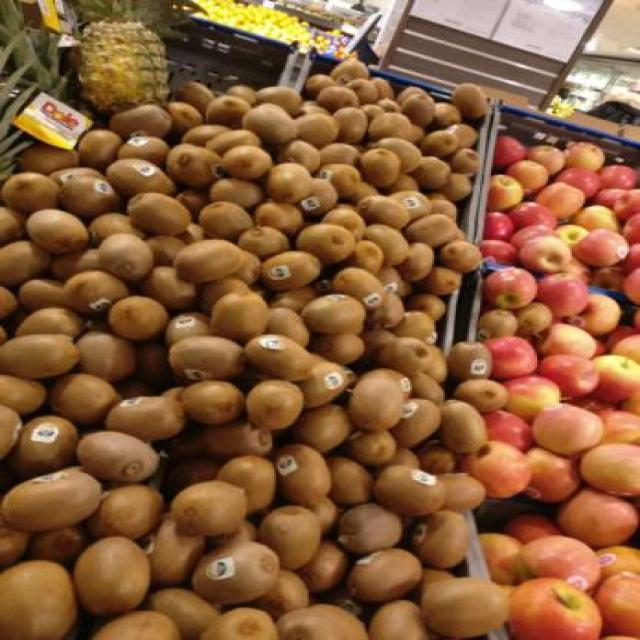kiwi: (2, 468, 102, 531), (73, 536, 150, 616), (0, 562, 77, 639), (192, 538, 280, 605), (422, 578, 510, 637), (8, 415, 78, 478), (170, 480, 248, 536), (77, 431, 158, 484), (87, 485, 163, 540), (258, 505, 322, 570), (348, 369, 412, 431), (348, 549, 422, 602), (150, 516, 205, 586), (148, 588, 220, 640), (105, 396, 187, 441), (373, 465, 445, 516), (0, 334, 80, 379), (50, 374, 120, 425), (168, 335, 245, 381), (217, 455, 277, 513), (338, 502, 403, 555), (412, 510, 470, 569), (275, 444, 332, 504), (277, 604, 368, 640), (245, 334, 313, 381), (75, 331, 137, 382), (173, 239, 243, 284), (245, 379, 303, 431), (210, 291, 268, 342), (292, 404, 353, 452), (180, 380, 245, 425), (63, 270, 128, 314), (127, 192, 192, 236), (27, 209, 90, 254), (203, 420, 273, 460), (253, 570, 310, 619), (298, 540, 348, 594), (108, 296, 168, 341), (98, 232, 153, 281), (300, 294, 367, 334), (90, 610, 182, 639), (58, 176, 120, 219), (105, 159, 177, 196), (440, 400, 488, 454), (2, 171, 60, 215), (200, 608, 278, 640), (142, 266, 197, 311), (392, 399, 442, 448), (297, 222, 355, 264), (368, 600, 428, 640), (262, 251, 322, 291), (167, 144, 220, 189), (242, 104, 297, 146), (300, 361, 348, 409), (327, 456, 373, 506), (332, 266, 385, 309), (0, 241, 50, 286), (378, 336, 432, 376), (28, 526, 88, 562), (198, 201, 253, 240), (110, 104, 172, 138), (15, 308, 83, 338), (165, 458, 220, 495), (18, 142, 78, 175), (265, 162, 312, 204), (355, 195, 410, 230), (200, 276, 250, 314), (88, 212, 145, 245), (0, 375, 47, 415), (403, 214, 458, 248), (77, 129, 122, 170), (438, 472, 485, 511), (345, 430, 397, 465), (310, 332, 365, 365), (453, 379, 508, 412), (363, 224, 408, 264), (447, 341, 492, 381), (238, 225, 290, 259), (373, 138, 422, 174), (253, 201, 303, 236), (137, 341, 173, 389), (360, 148, 402, 189), (265, 308, 310, 346), (222, 145, 272, 179), (210, 178, 263, 209), (117, 135, 170, 166), (50, 249, 100, 281), (205, 95, 252, 129), (18, 279, 67, 311), (298, 178, 338, 216), (318, 164, 362, 198), (323, 206, 367, 240), (165, 312, 210, 345), (205, 129, 262, 155), (398, 242, 435, 282), (393, 311, 437, 344), (207, 520, 257, 549), (295, 114, 338, 147), (367, 292, 405, 329), (417, 440, 457, 475), (412, 156, 452, 190), (440, 240, 482, 272), (345, 240, 383, 275), (418, 266, 462, 296), (367, 112, 412, 141), (257, 86, 303, 114), (390, 190, 432, 220), (165, 101, 203, 134), (147, 235, 187, 266), (175, 82, 215, 113), (0, 526, 30, 567), (452, 84, 488, 118), (270, 286, 317, 312), (282, 140, 320, 172), (333, 108, 367, 143), (0, 405, 22, 459), (377, 265, 412, 298), (308, 496, 338, 534), (420, 130, 460, 158), (410, 372, 445, 404), (317, 86, 360, 112), (402, 94, 435, 127), (362, 329, 397, 360), (407, 294, 447, 321), (180, 125, 230, 146), (48, 166, 103, 185), (438, 172, 472, 202), (233, 250, 262, 285), (330, 59, 370, 84), (175, 189, 208, 219), (423, 345, 448, 384), (320, 142, 360, 166), (0, 206, 25, 244), (448, 148, 480, 176), (345, 79, 380, 104), (427, 192, 457, 221), (303, 74, 337, 99), (422, 569, 455, 592), (433, 102, 462, 128), (447, 124, 477, 149), (350, 181, 378, 204), (390, 448, 420, 469), (177, 222, 205, 244), (388, 174, 420, 192), (0, 286, 18, 318), (227, 85, 255, 105), (370, 78, 395, 100), (332, 598, 362, 616), (397, 88, 427, 103), (360, 104, 385, 121), (340, 365, 358, 387), (408, 124, 425, 145), (300, 104, 330, 115), (162, 386, 185, 400), (377, 100, 400, 112), (0, 326, 8, 344)
pineapple: (65, 1, 207, 109)
